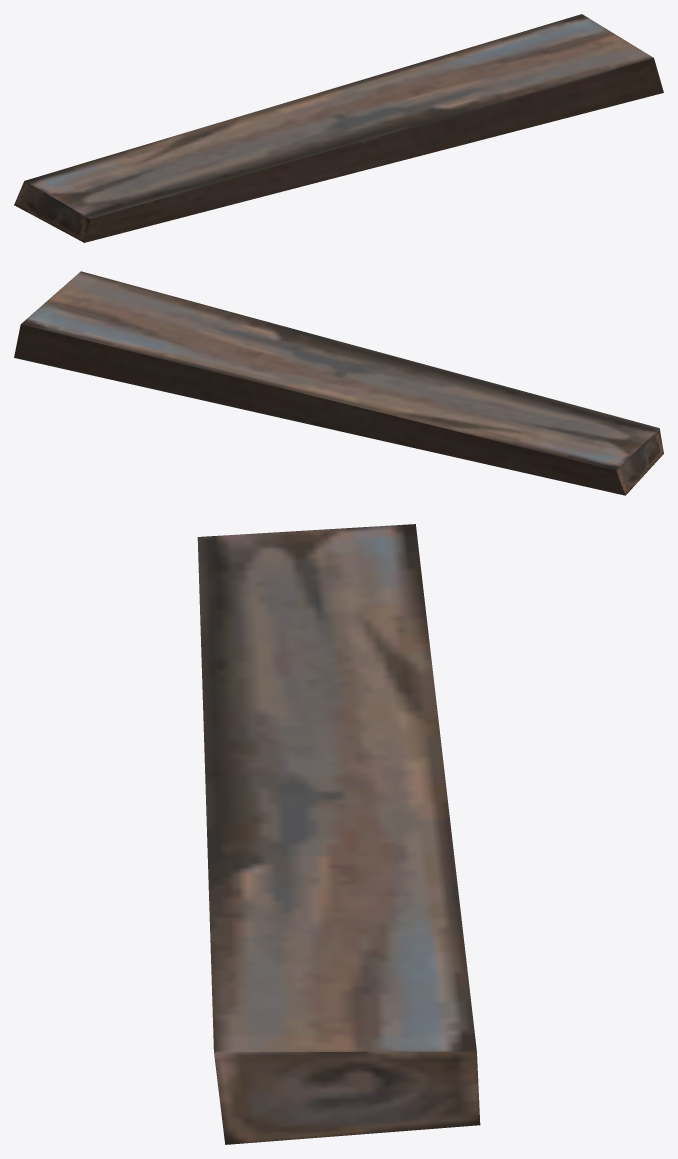
Rendered from mine_board_large_01.fbx.
3 views of the same model, one above another, from view 1: azimuth 30°, elevation 25°; view 2: azimuth 150°, elevation 25°; view 3: azimuth 270°, elevation 25° (orthographic). The views are drawn at different scales.
Parts seen in each view (by area): view 1: 11_-_Default; view 2: 11_-_Default; view 3: 11_-_Default.
Boxes of the visible parts, x1,y1,x2,y2 form: 11_-_Default: (14, 14, 663, 242); 11_-_Default: (14, 271, 663, 495); 11_-_Default: (197, 524, 480, 1144).
Bounding box in the file's own units: 3.47 × 0.2364 × 0.7057.
